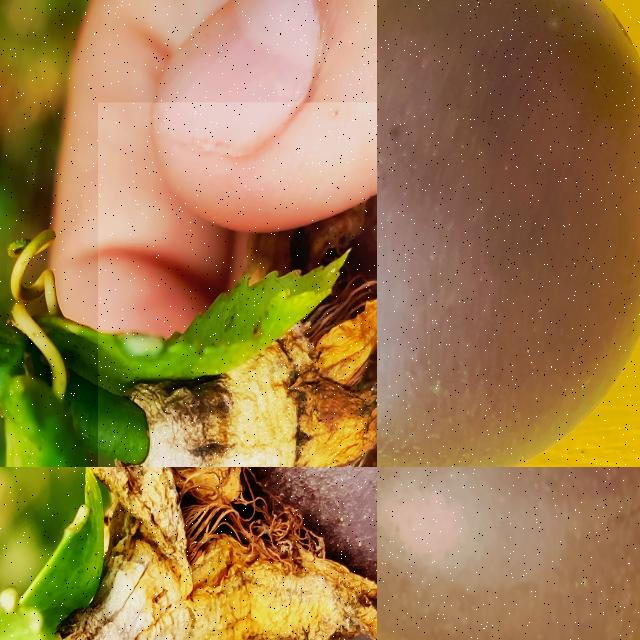Estado-4: (377, 467, 640, 640)
Estado-5: (377, 0, 640, 467), (97, 199, 377, 467), (0, 467, 377, 640)
